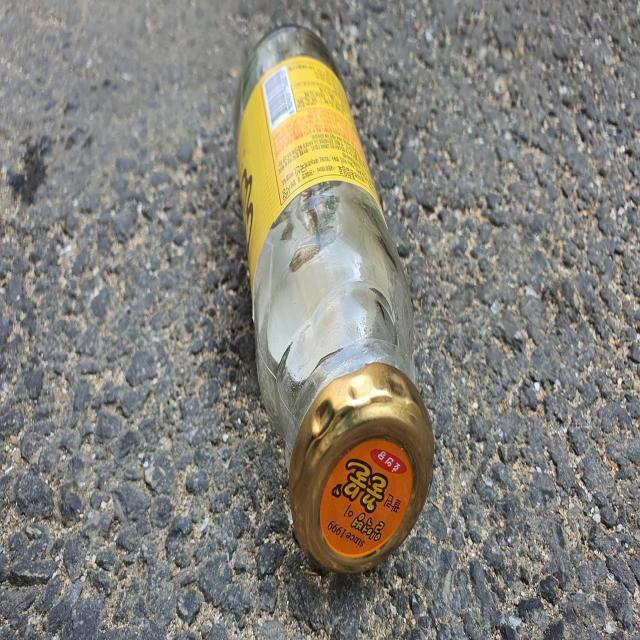glass: (234, 24, 435, 573)
